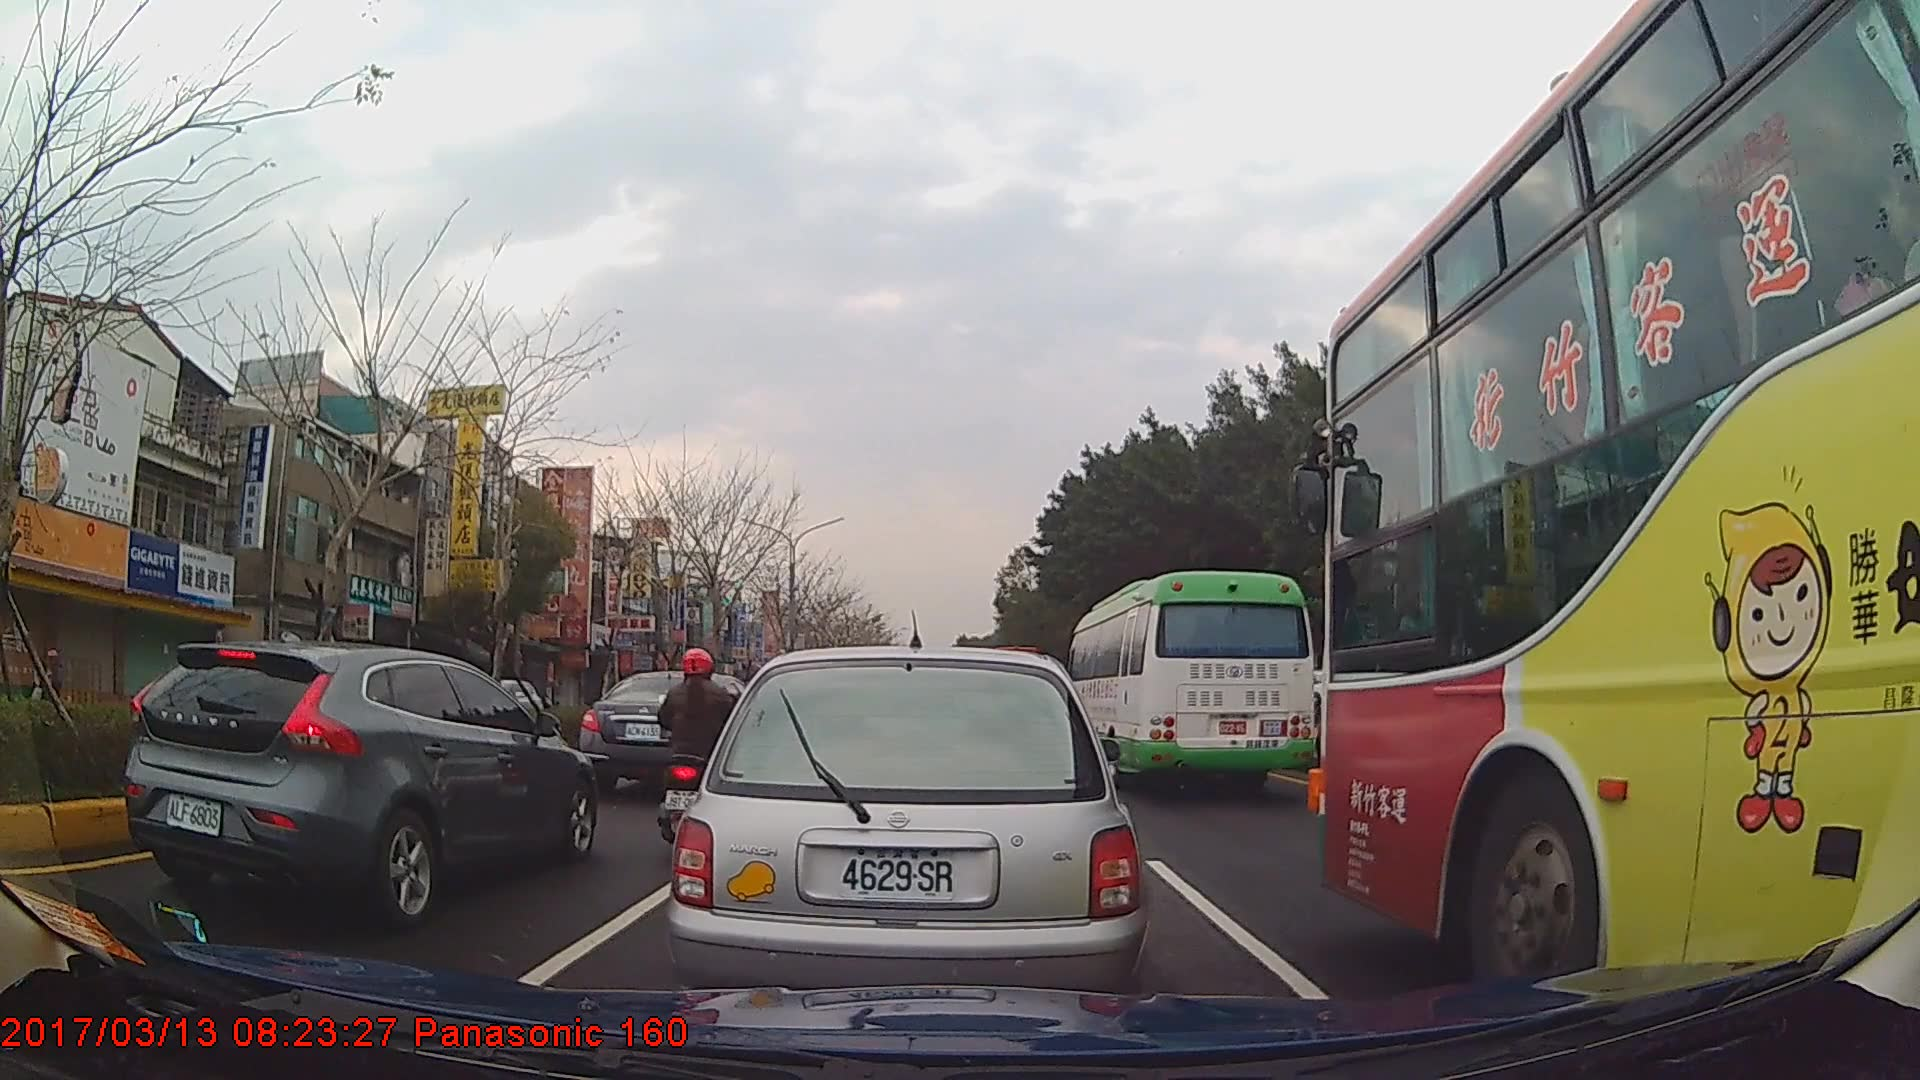rider: (654, 644, 750, 847), (32, 651, 70, 702)
vehicle: (1321, 0, 1920, 1007), (669, 639, 1150, 1023), (122, 636, 601, 931), (1063, 572, 1317, 796), (579, 670, 760, 791), (471, 677, 542, 730)
